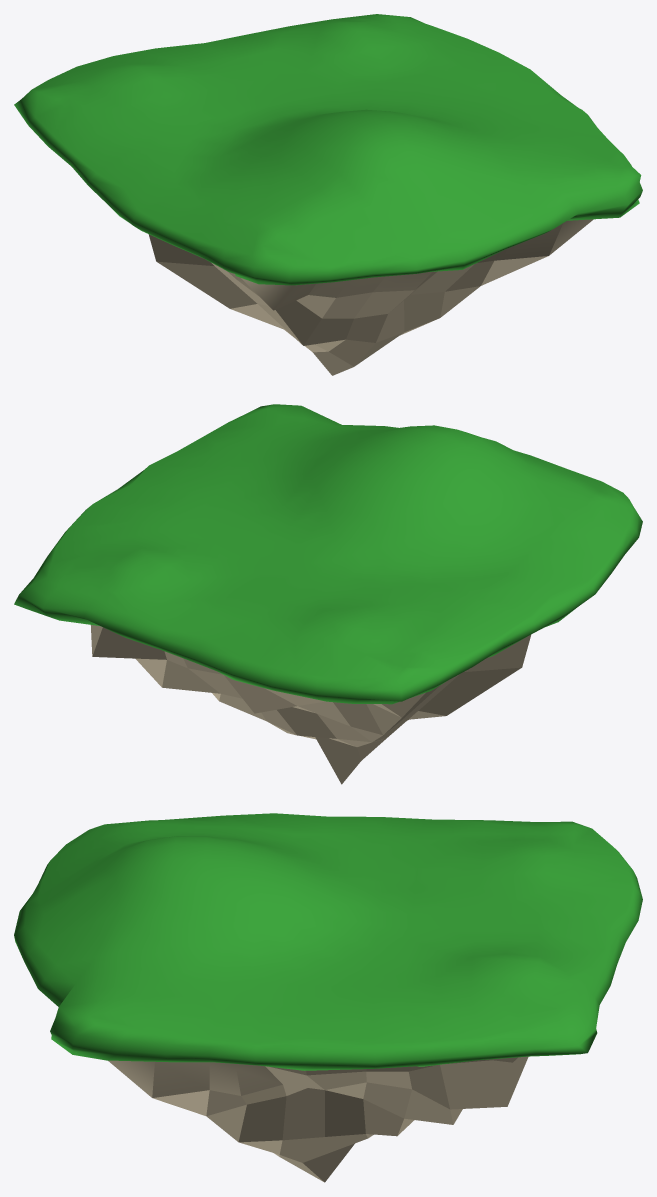
Rendered from SM_Island1.fbx.
The picture shows the model from 3 angles, top to bottom: view 1: azimuth 30°, elevation 25°; view 2: azimuth 150°, elevation 25°; view 3: azimuth 270°, elevation 25°; orthographic projection. The views are drawn at different scales.
Parts seen in each view (by area): view 1: SM_Island1; view 2: SM_Island1; view 3: SM_Island1.
Part boxes in pixels (x1=…): SM_Island1: x1=14, y1=14, x2=642, y2=375; SM_Island1: x1=14, y1=404, x2=642, y2=784; SM_Island1: x1=14, y1=813, x2=642, y2=1182.
Size of the model in its own units: 39.34 by 24.7 by 43.54.
